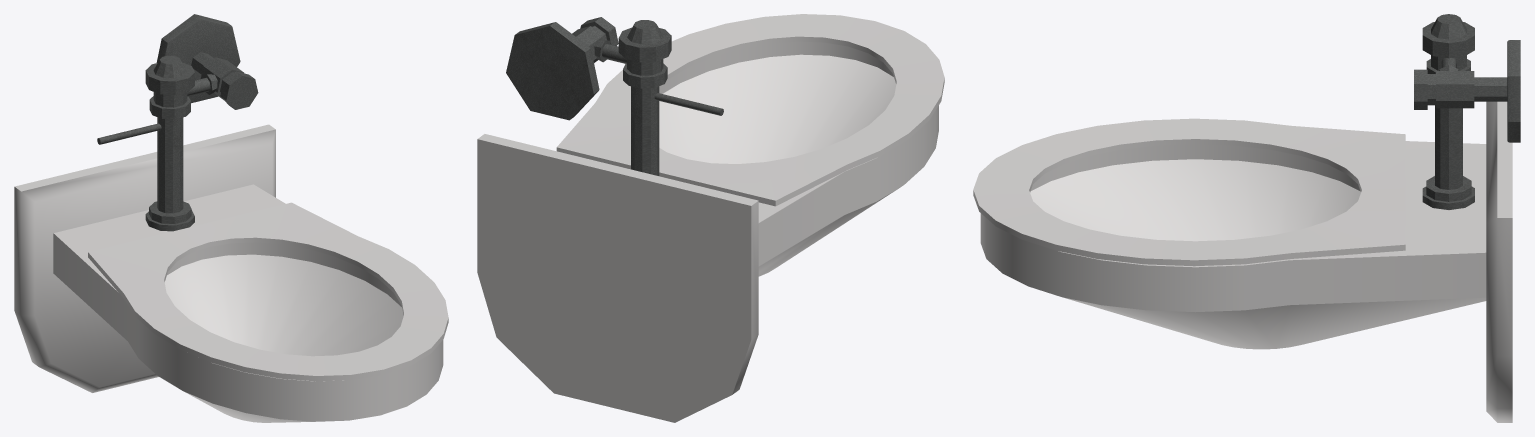
The model's file is ToiletSeat.FBX.
The picture shows the model from 3 angles, left to right: view 1: azimuth 30°, elevation 25°; view 2: azimuth 150°, elevation 25°; view 3: azimuth 270°, elevation 25°; orthographic projection. The views are drawn at different scales.
Parts seen in each view (by area): view 1: ToiletSeat; view 2: ToiletSeat; view 3: ToiletSeat.
Part boxes in pixels (box(x1,y1,x2,y2)): ToiletSeat: box(14, 14, 448, 422); ToiletSeat: box(477, 14, 944, 422); ToiletSeat: box(973, 14, 1520, 422).
Bounding box in the file's own units: 37.12 × 46.79 × 60.61.
